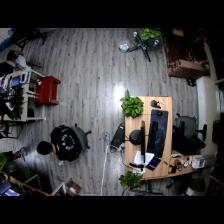normal: (35, 126, 89, 164), (6, 50, 34, 74)
